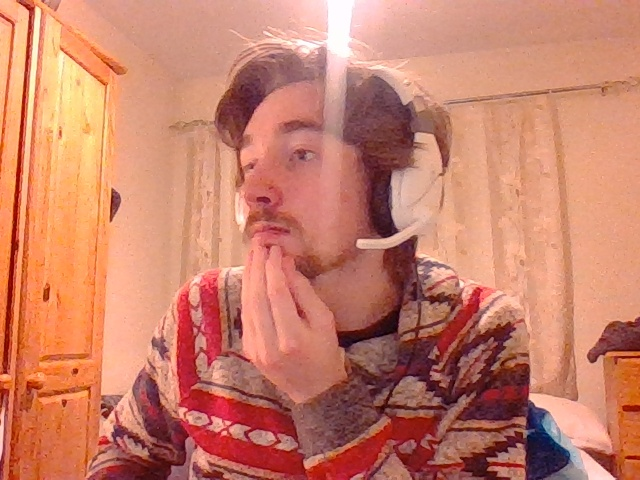thanks: (240, 245, 347, 389)
